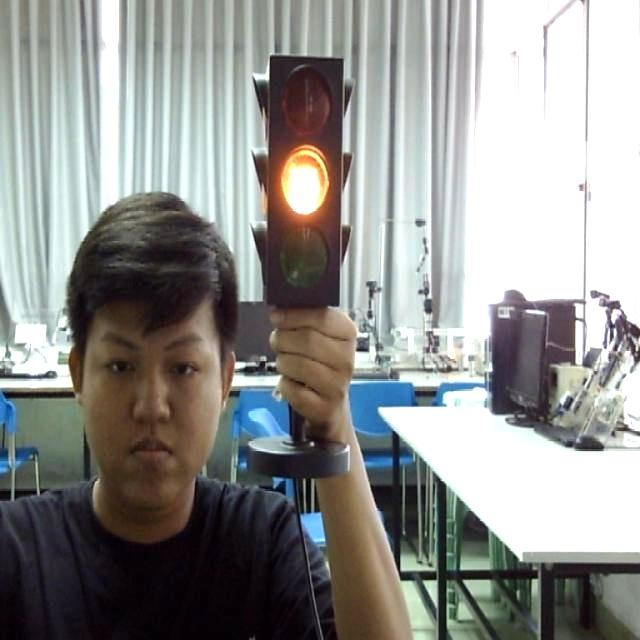Yellow: (250, 49, 358, 308)
